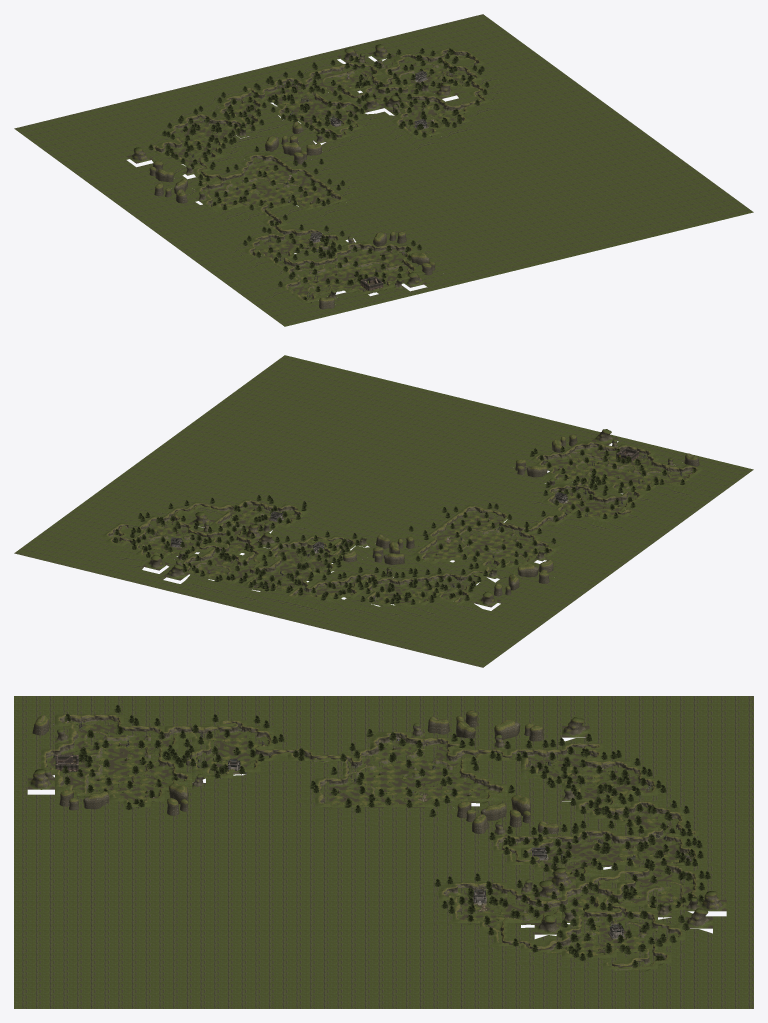
The model's file is map_F03_03.glb.
3 views of the same model, one above another, from view 1: azimuth 30°, elevation 25°; view 2: azimuth 150°, elevation 25°; view 3: azimuth 270°, elevation 25° (orthographic). The views are drawn at different scales.
Parts seen in each view (by area): view 1: default_ground; view 2: default_ground; view 3: default_ground, FM_F03_grcl01_ABB (×5).
Boxes of the visible parts, x1,y1,x2,y2 form: default_ground: (14,14,753,326); default_ground: (14,355,753,667); default_ground: (14,696,753,1008); FM_F03_grcl01_ABB (×5): (59,720,543,827).
Bounding box in the file's own units: 1944 × 57.98 × 1944.
280 materials, 280 textured.
